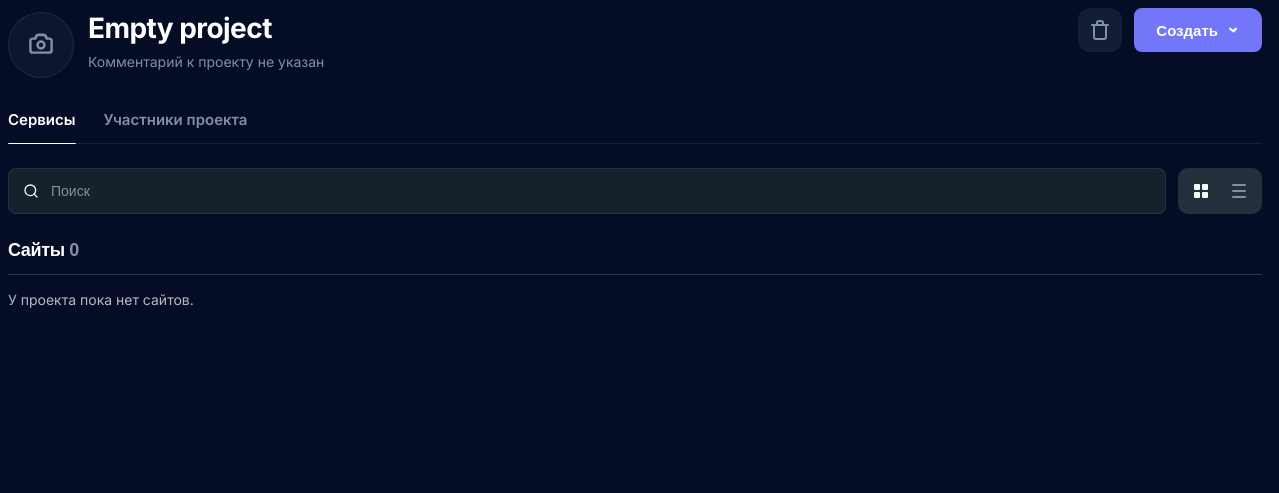
Scenario: SiteProjectLayout child sites › creates first site and opens widget connect inside project shell
Click the button with test id "project-create-menu-trigger": (1198, 30) [1134,8,1262,52]
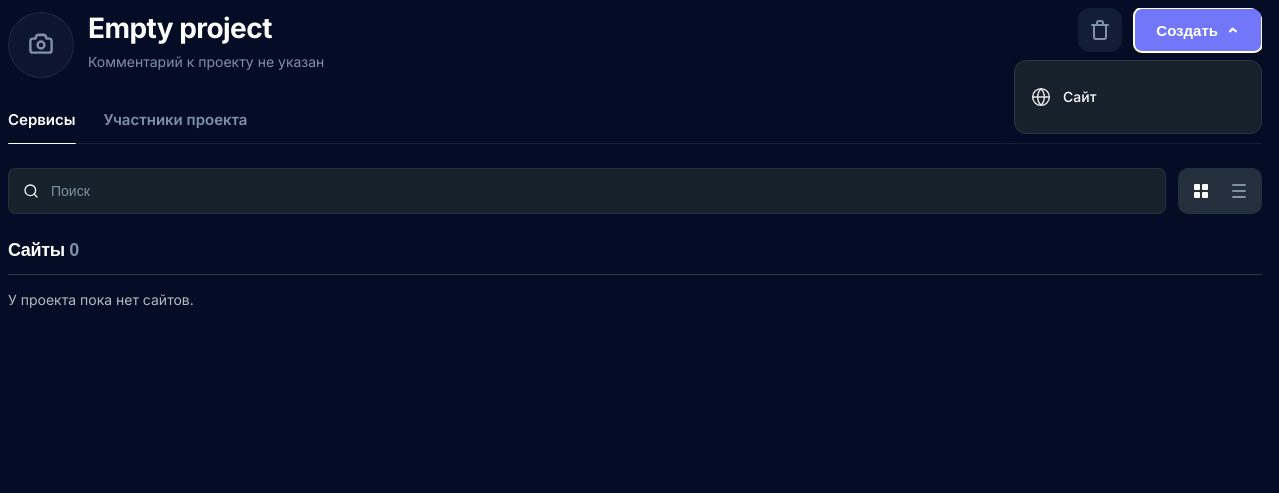
Click the menu item with test id "project-create-menu-site": (1138, 97) [1015,77,1261,117]
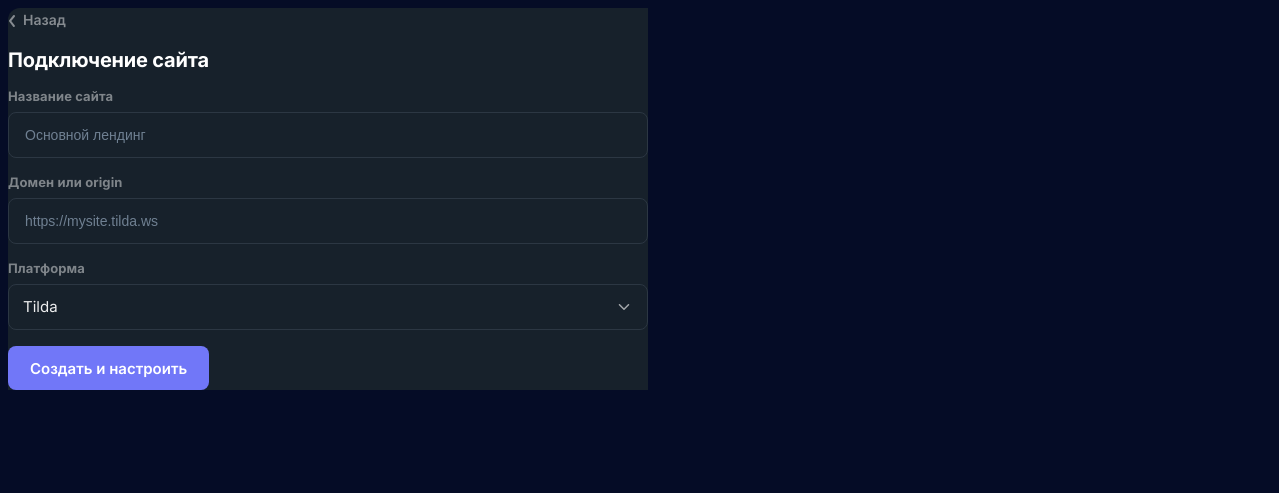
In the field with test id "project-add-site-name": (328, 135) [9,113,647,157], type "Landing alpha"
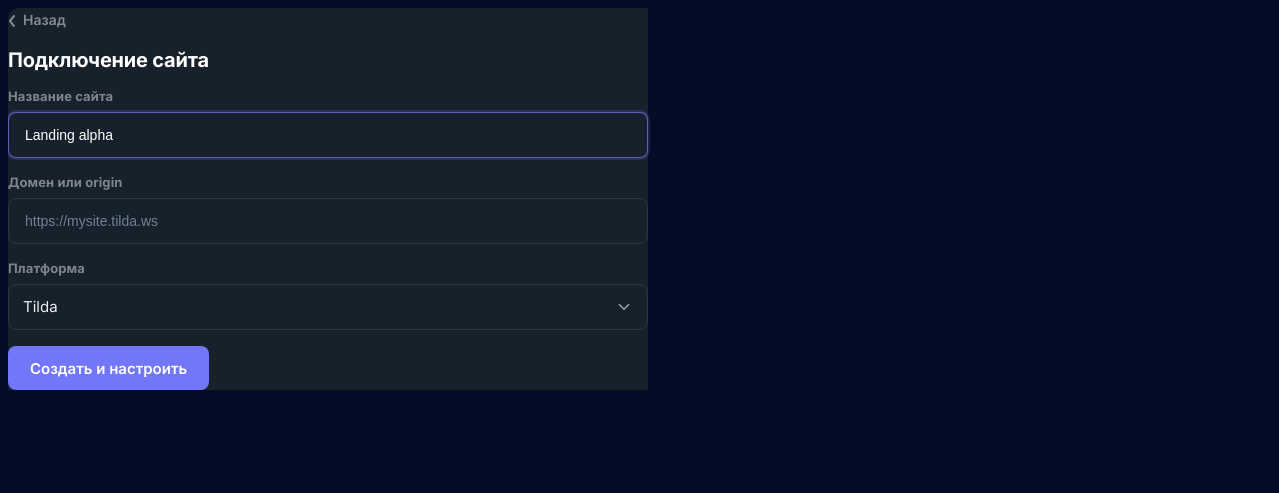
In the field with test id "project-add-site-origin": (328, 221) [9,199,647,243], type "https://alpha.example"
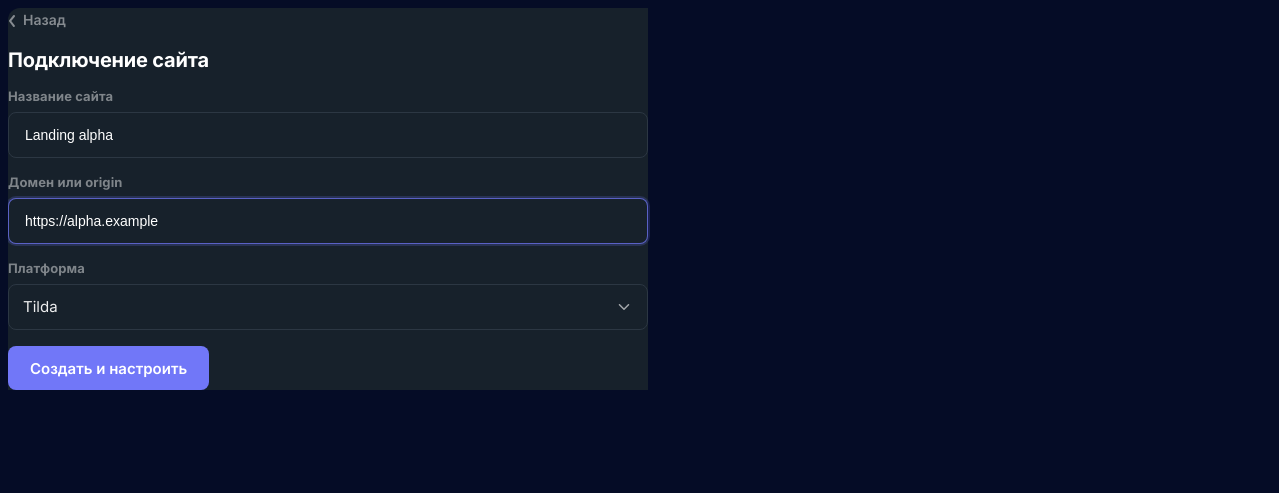
Click the button with test id "project-add-site-submit": (109, 368) [8,346,209,390]
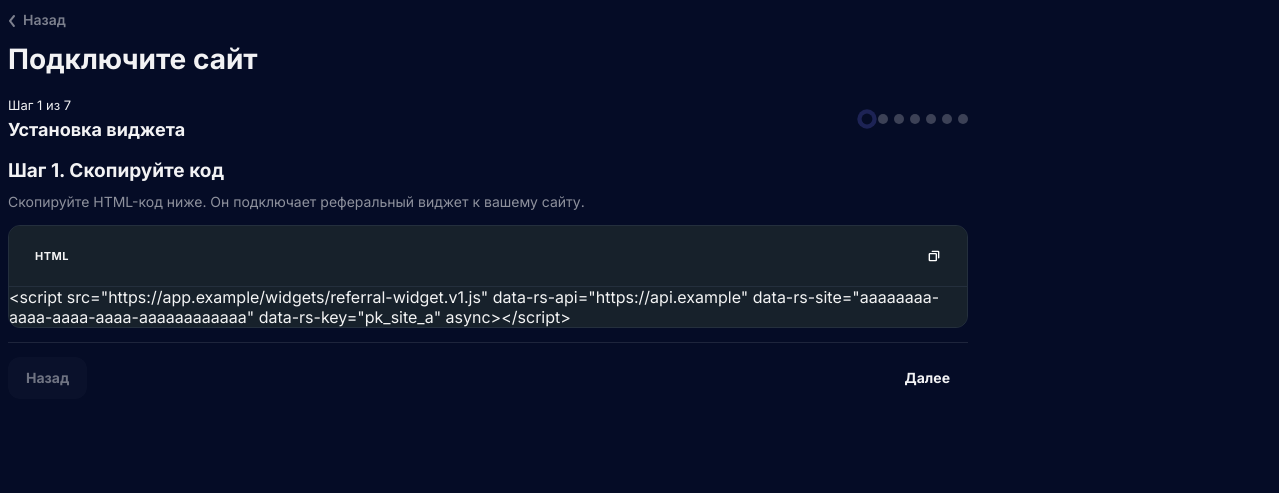
Expected: the element with test id "project-site-connect-page" is shown, [8,8,968,399]
Expected: the heading "Подключите сайт" is shown, [8,42,258,76]
Expected: the element with test id "widget-install-snippet-block" shows "aaaaaaaa-aaaa-aaaa-aaaa-aaaaaaaaaaaa", [9,287,939,327]
Click the button named "Открыть шаг 7": (963, 119) [958,114,968,124]
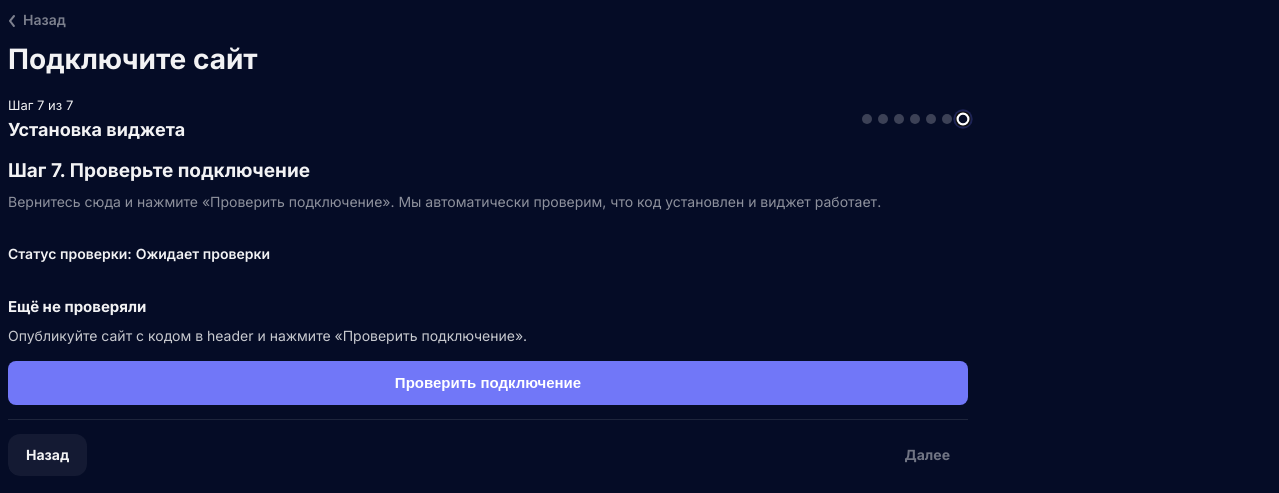
Expected: the heading "Шаг 7. Проверьте подключение" is shown, [8,159,310,182]
